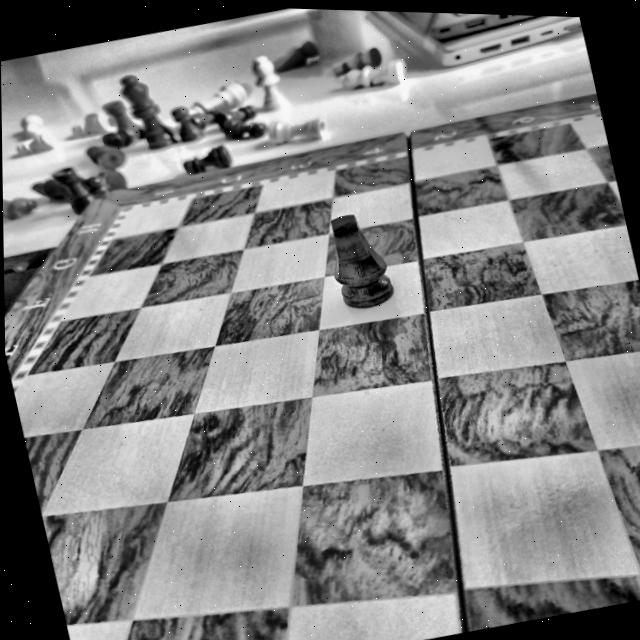black-knight: (313, 202, 405, 319)
